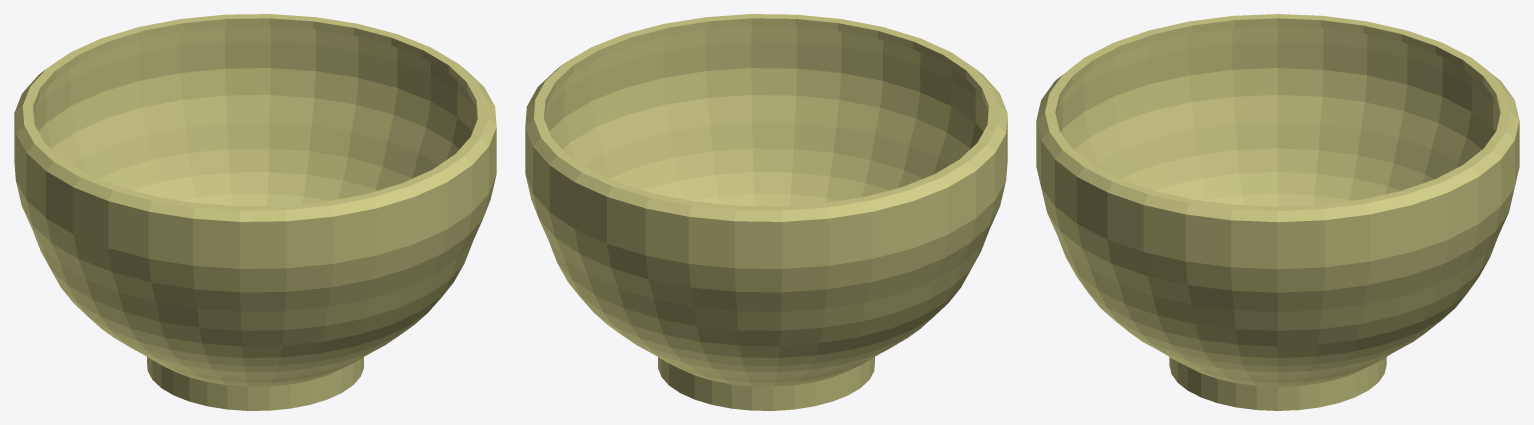
The model's file is Schaaltje1.obj.
3 views of the same model, side by side, from view 1: azimuth 30°, elevation 25°; view 2: azimuth 150°, elevation 25°; view 3: azimuth 270°, elevation 25° (orthographic).
Visible parts, largest first — view 1: Cylinder_Material.001; view 2: Cylinder_Material.001; view 3: Cylinder_Material.001.
Part boxes in pixels (x1,y1,x2,y2): Cylinder_Material.001: [14, 14, 496, 410]; Cylinder_Material.001: [525, 14, 1007, 410]; Cylinder_Material.001: [1036, 14, 1519, 410].
Size of the model in its own units: 21.6 by 12.46 by 21.6.
